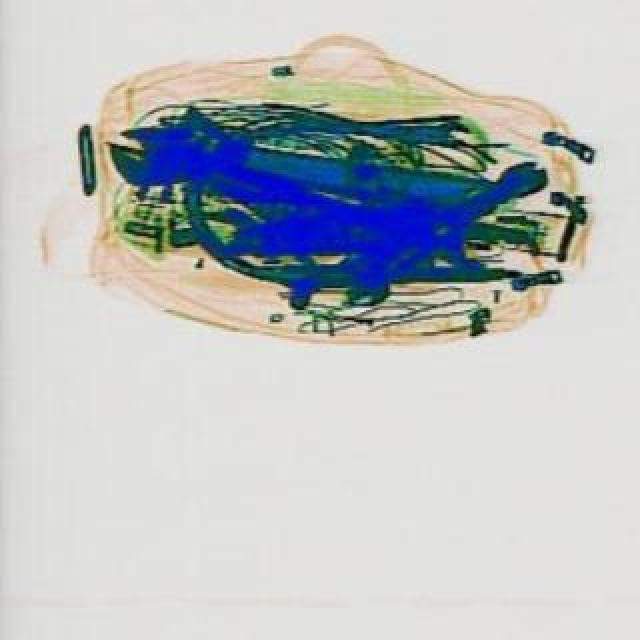scissors: (98, 110, 370, 238)
